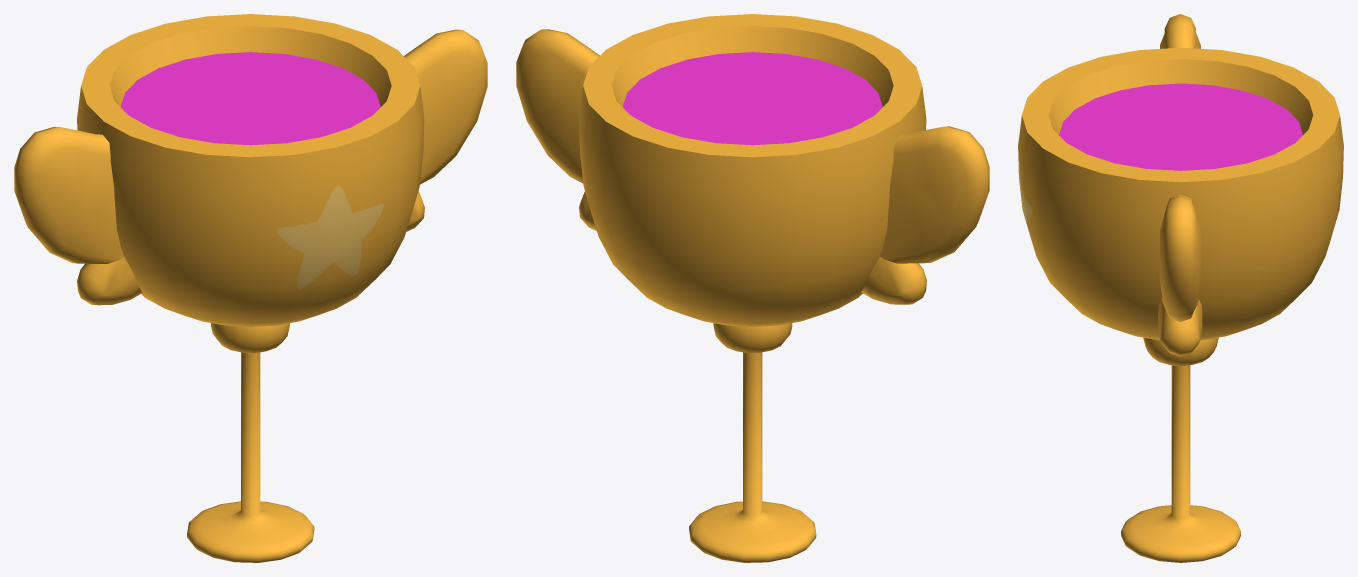
File: Cup_01.fbx
The picture shows the model from 3 angles, left to right: view 1: azimuth 30°, elevation 25°; view 2: azimuth 150°, elevation 25°; view 3: azimuth 270°, elevation 25°; orthographic projection. The views are drawn at different scales.
Visible parts, largest first — view 1: Cup_01; view 2: Cup_01; view 3: Cup_01.
Boxes of the visible parts, left/top/right/bottom form: Cup_01: left=14, top=14, right=487, bottom=562; Cup_01: left=516, top=14, right=989, bottom=562; Cup_01: left=1018, top=14, right=1343, bottom=562.
Size of the model in its own units: 14.1 by 13.15 by 9.06.
